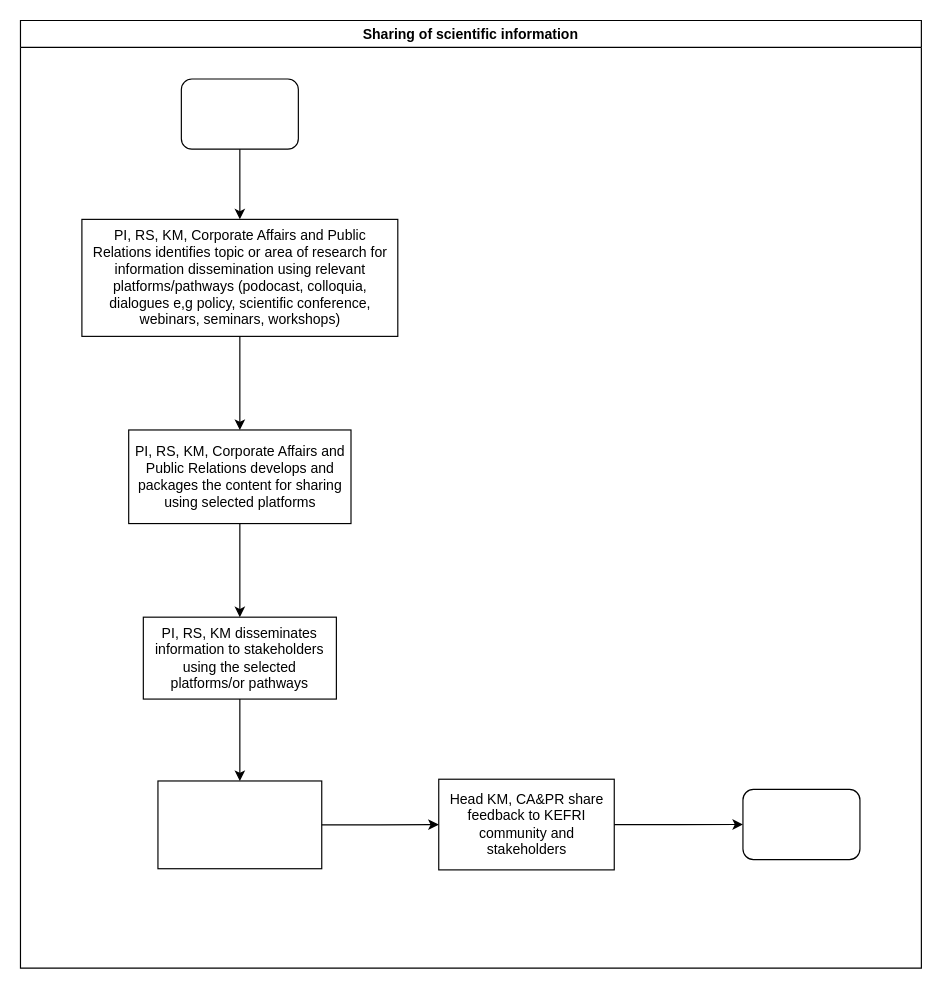
Some shapes in this 942 by 989 pixel diagram are drawn without their labels. The centre of each missing label's shape, as x and y in pixels:
End: [801,824]
Head KM, CA&PR receive and compile stakeholder feedback on shared information: [239,824]
Start: [239,113]
